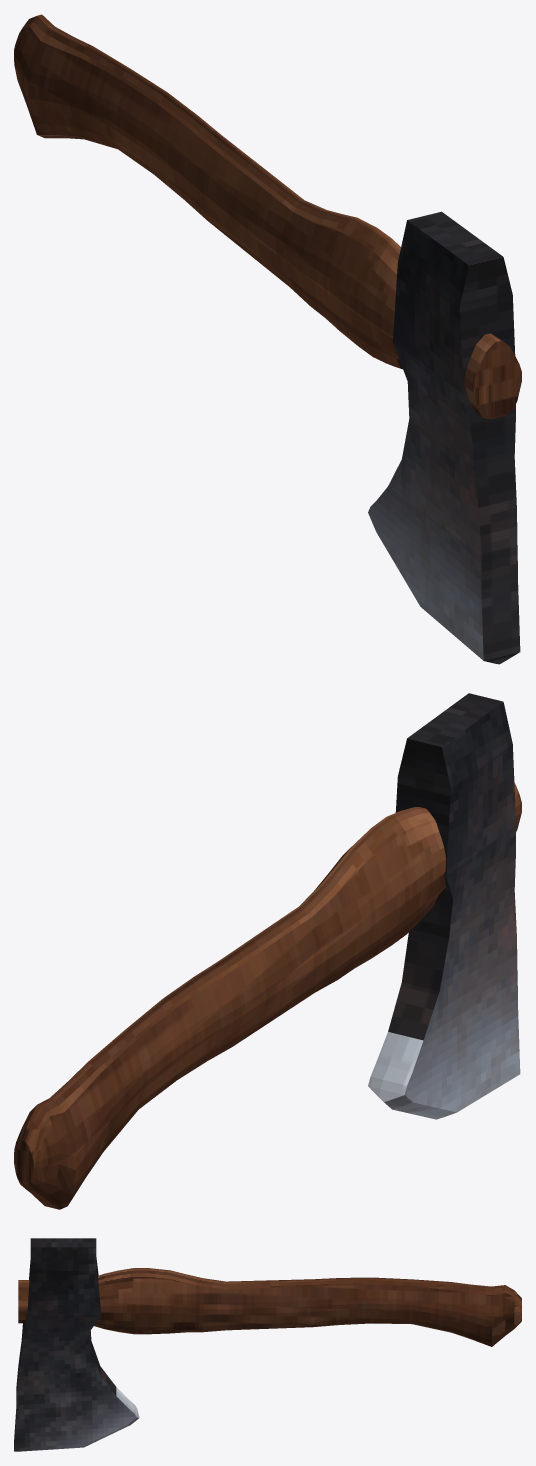
Rendered from axeNew 1.fbx.
3 views of the same model, one above another, from view 1: azimuth 30°, elevation 25°; view 2: azimuth 150°, elevation 25°; view 3: azimuth 270°, elevation 25° (orthographic). The views are drawn at different scales.
Visible parts, largest first — view 1: Cube.001, Cube; view 2: Cube, Cube.001; view 3: Cube, Cube.001.
Part boxes in pixels (box(x1,y1,x2,y2)): Cube.001: box(368, 211, 520, 664); Cube: box(14, 14, 521, 419); Cube: box(14, 782, 521, 1209); Cube.001: box(368, 693, 520, 1119); Cube: box(18, 1268, 521, 1346); Cube.001: box(14, 1238, 139, 1451).
Size of the model in its own units: 30.99 by 219 by 483.
